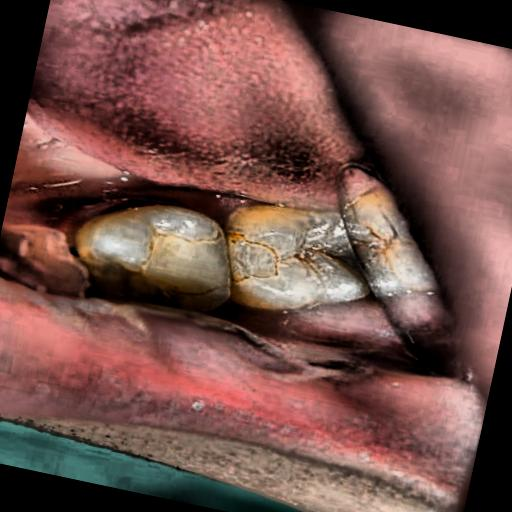Caries: (118, 197, 300, 332)
